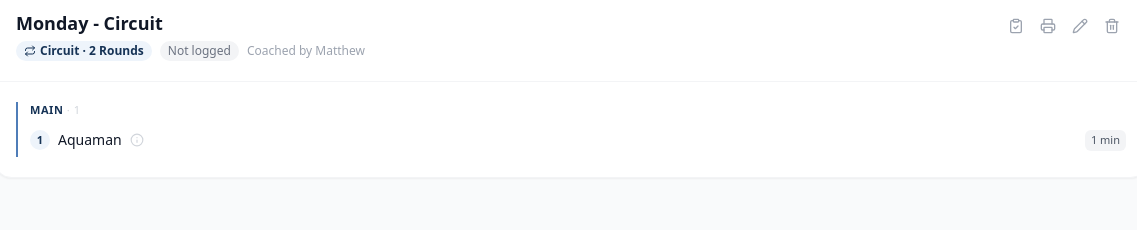
Test case: WorkoutTemplateCard — exercise descriptions (SB-525) › reveals the cues when the exercise name is tapped
The image size is (1137, 230).
Click the button with test id "describe-aquaman" at (87, 140), box [30,126,144,154]
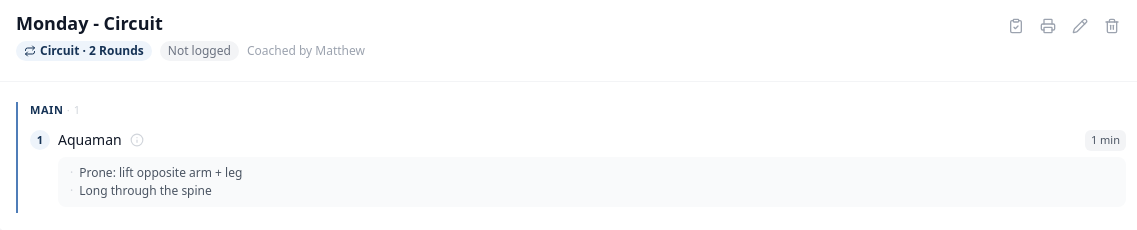
Now the element with test id "exercise-description" shows "Prone: lift opposite arm + leg", box [79,164,242,180]
Now the element with test id "exercise-description" shows "Long through the spine", box [79,182,212,198]
